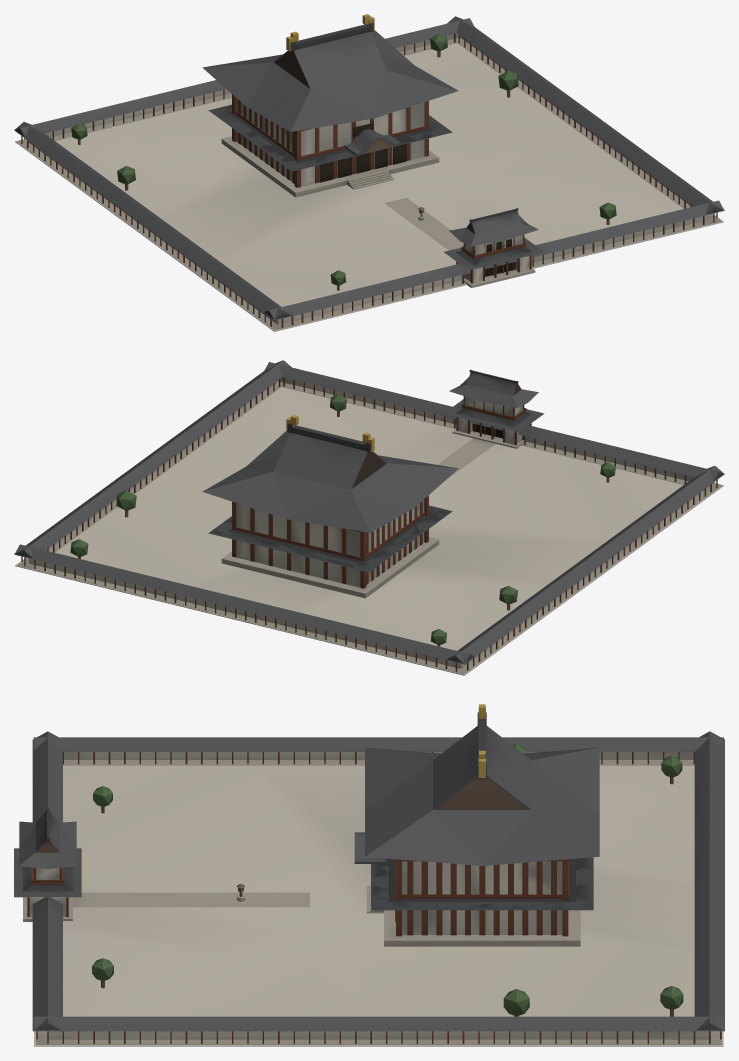
File: daibutsuden-1709.glb
3 renders of one model, top to bottom at view 1: azimuth 30°, elevation 25°; view 2: azimuth 150°, elevation 25°; view 3: azimuth 270°, elevation 25°, orthographic. The views are drawn at different scales.
Parts seen in each view (by area): view 1: p0_grounds, p1_halls, p2_roofs; view 2: p0_grounds, p1_halls, p2_roofs; view 3: p0_grounds, p1_halls, p2_roofs.
Part boxes in pixels (x1,y1,x2,y2): p0_grounds: (15,43,723,331); p1_halls: (14,16,724,330); p2_roofs: (71,14,616,290); p0_grounds: (15,387,723,675); p1_halls: (14,360,724,674); p2_roofs: (70,369,615,646); p0_grounds: (34,765,723,1046); p1_halls: (23,731,724,1044); p2_roofs: (14,704,683,1016).
Bounding box in the file's own units: 201 × 55.09 × 206.
